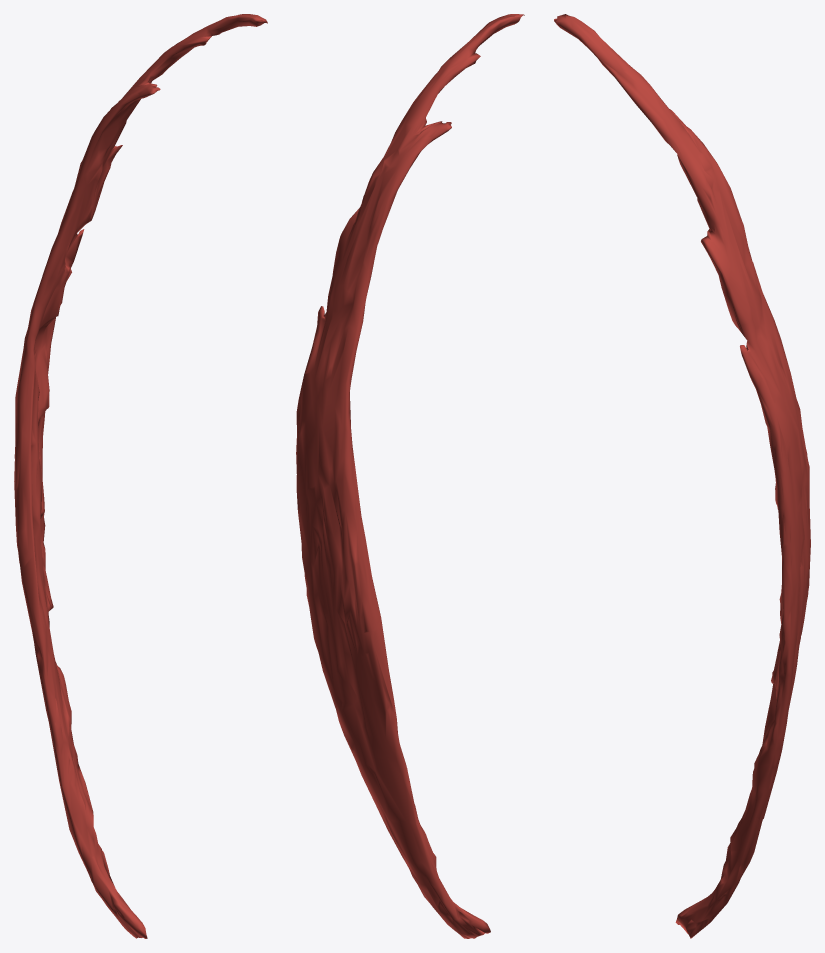
File: musculos-iliocostalis-thoracis-muscle-l.glb
The picture shows the model from 3 angles, left to right: view 1: azimuth 90°, elevation 25°; view 2: azimuth 150°, elevation 25°; view 3: azimuth 270°, elevation 25°; orthographic projection. The views are drawn at different scales.
Parts seen in each view (by area): view 1: Iliocostalis thoracis muscle.l; view 2: Iliocostalis thoracis muscle.l; view 3: Iliocostalis thoracis muscle.l.
Part boxes in pixels (box(x1,y1,x2,y2)): Iliocostalis thoracis muscle.l: box(14, 14, 267, 938); Iliocostalis thoracis muscle.l: box(296, 14, 524, 938); Iliocostalis thoracis muscle.l: box(554, 14, 810, 938).
Bounding box in the file's own units: 0.0546 × 0.3165 × 0.0795.
